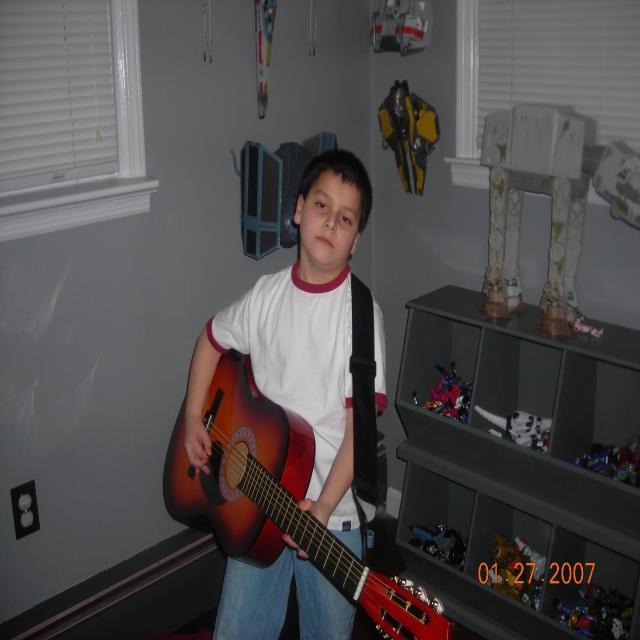guitar: (158, 349, 455, 640)
